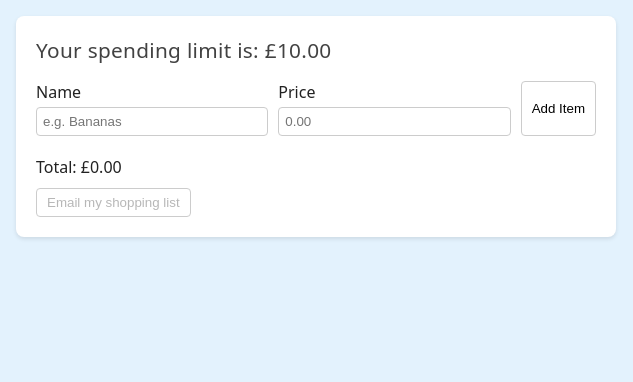
ShoppingList component › moves item up in the list
Type "Coffee" into the field labelled "Name" at (152, 122), box [36,107,268,136]
Type "2" into the number field labelled "Price" at (394, 122), box [278,107,511,136]
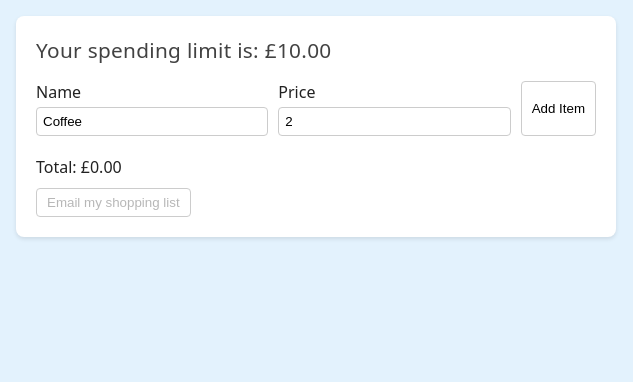
Click the button "Add Item" at (558, 109), box [521,81,596,136]
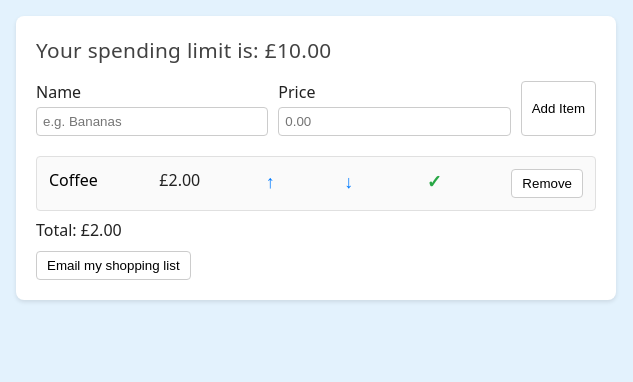
Type "Oranges" into the field labelled "Name" at (152, 122), box [36,107,268,136]
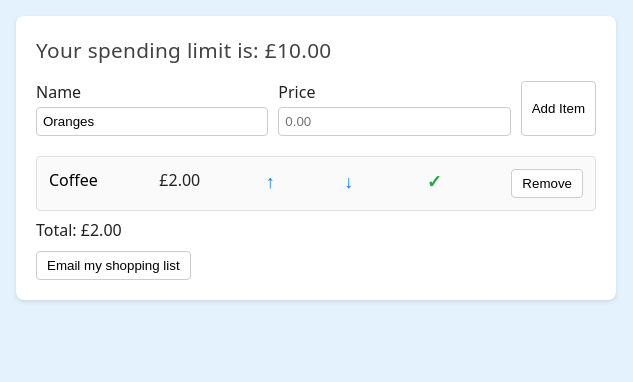
Type "1.5" into the number field labelled "Price" at (394, 122), box [278,107,511,136]
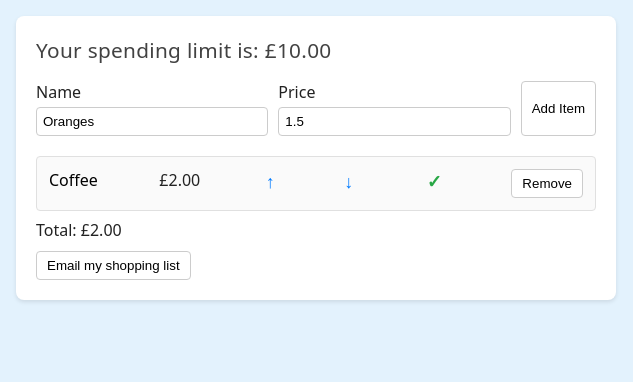
Click the button "Add Item" at (558, 109), box [521,81,596,136]
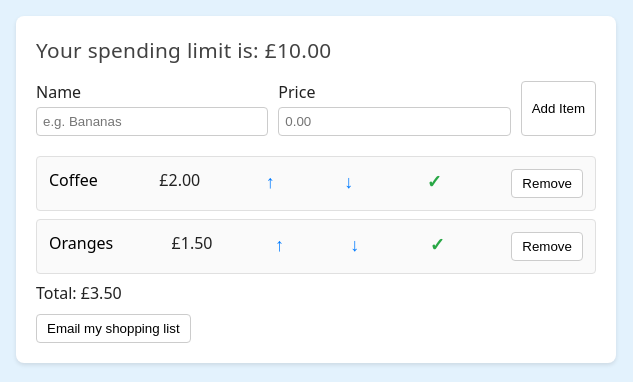
Result: the list item "Coffee £2.00 ↑ ↓ ✓ Remove" is shown at [36,156,596,211]
Result: the list item "Oranges £1.50 ↑ ↓ ✓ Remove" is shown at [36,219,596,274]
Click the icon with test id "up-arrow" in the row of "Oranges" at (279, 247), box [275,232,284,261]
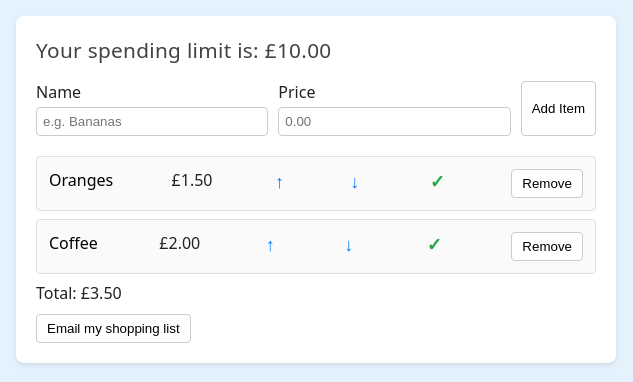
Result: the list item "Oranges £1.50 ↑ ↓ ✓ Remove" is shown at [36,156,596,211]
Result: the list item "Coffee £2.00 ↑ ↓ ✓ Remove" is shown at [36,219,596,274]
